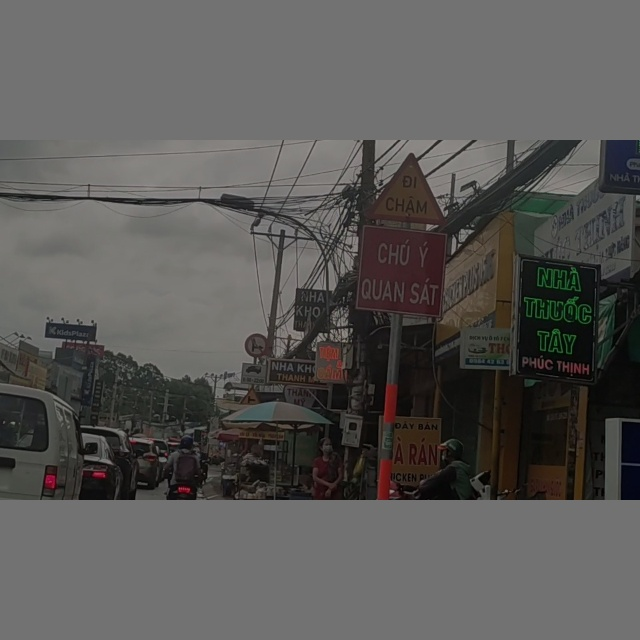P.139: (245, 332, 273, 361)
S.505a*Xe tai: (242, 365, 265, 383)
W.205b: (241, 385, 262, 406)
W.245a: (366, 154, 451, 227)
